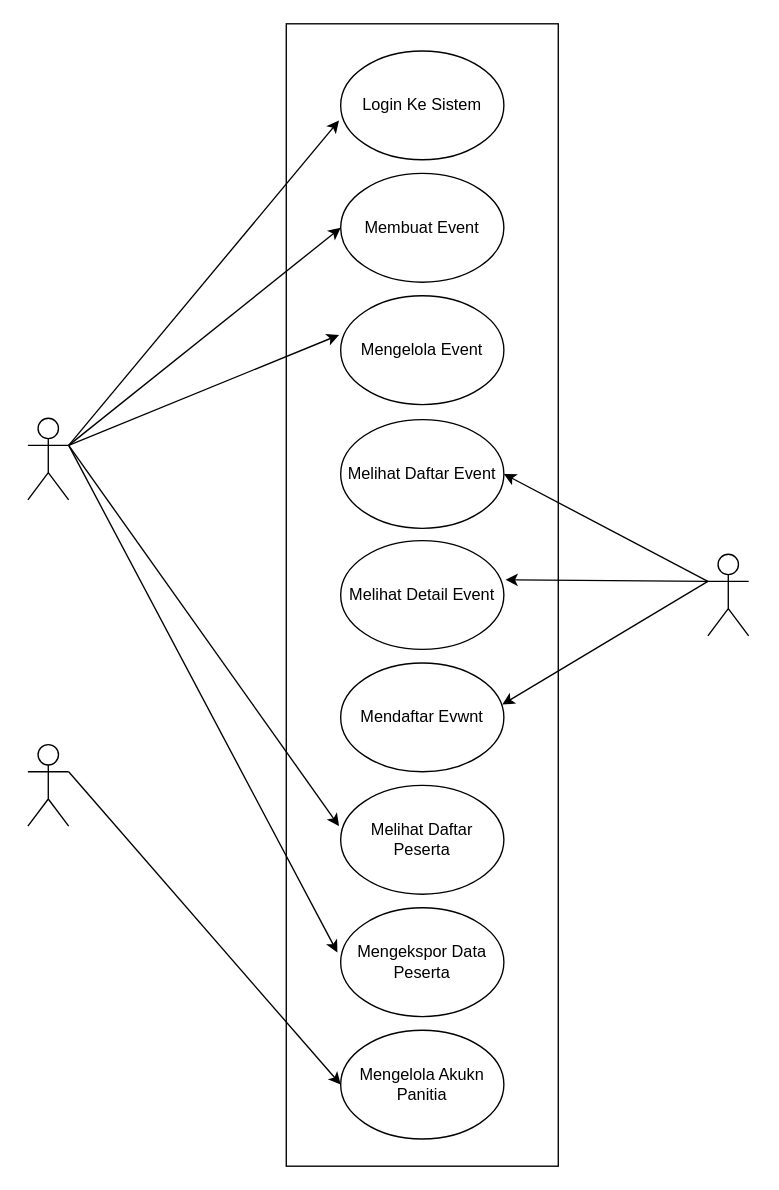
This 779x1190 diagram has some shape labels left out. Each missing label, with the centre of its shape:
Admin: point 48,784
Panitia: point 48,458
Peserta: point 728,594
